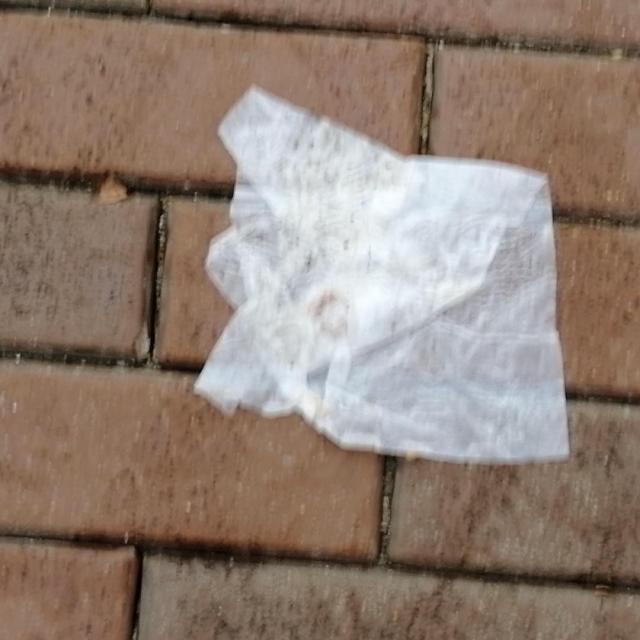Paper: (191, 80, 572, 466)
